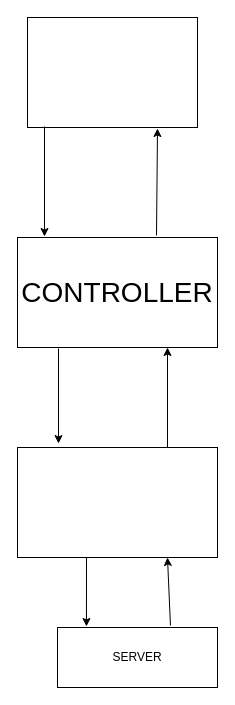
The diagram is 235 pixels wide and 705 high, and some of its shapes have lost their labels. The shapes that lost their labels are listed below. From the top down, each one's box as (x1, y1, x2, y2) in pixels, then its label:
(26, 16, 198, 128): GUI
(16, 446, 218, 558): CONNECTOR
